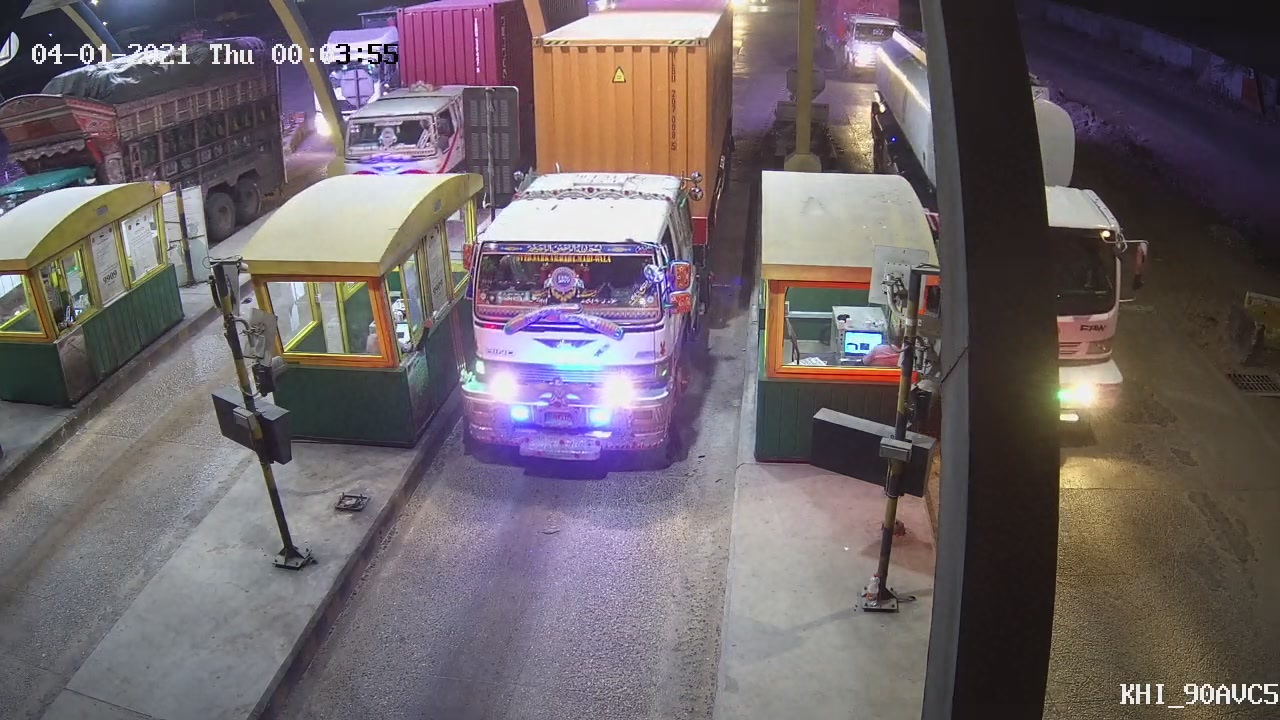F5: (458, 30, 723, 478)
